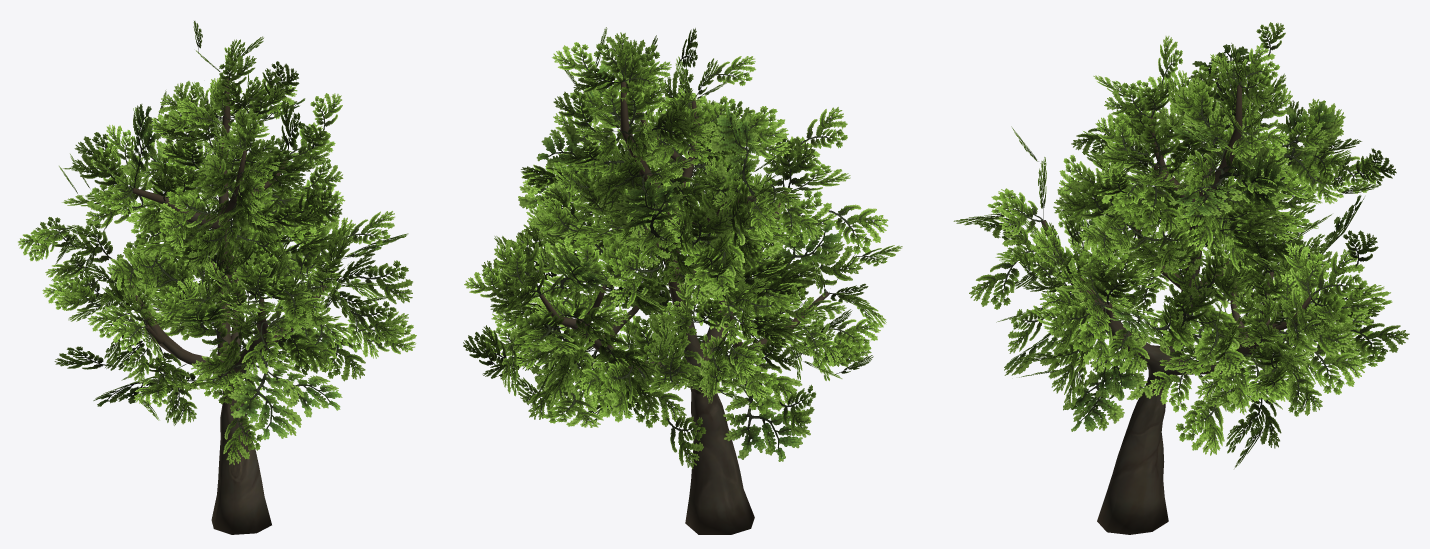
The model's file is b_Tree02.fbx.
The picture shows the model from 3 angles, left to right: view 1: azimuth 30°, elevation 25°; view 2: azimuth 150°, elevation 25°; view 3: azimuth 270°, elevation 25°; orthographic projection. The views are drawn at different scales.
Parts seen in each view (by area): view 1: Tree02; view 2: Tree02; view 3: Tree02.
Boxes of the visible parts, <box> form: Tree02: <box>18,21,416,534</box>; Tree02: <box>463,27,902,534</box>; Tree02: <box>953,22,1409,534</box>.
Size of the model in its own units: 25.71 by 34.86 by 29.15.
2 materials, 2 textured.
